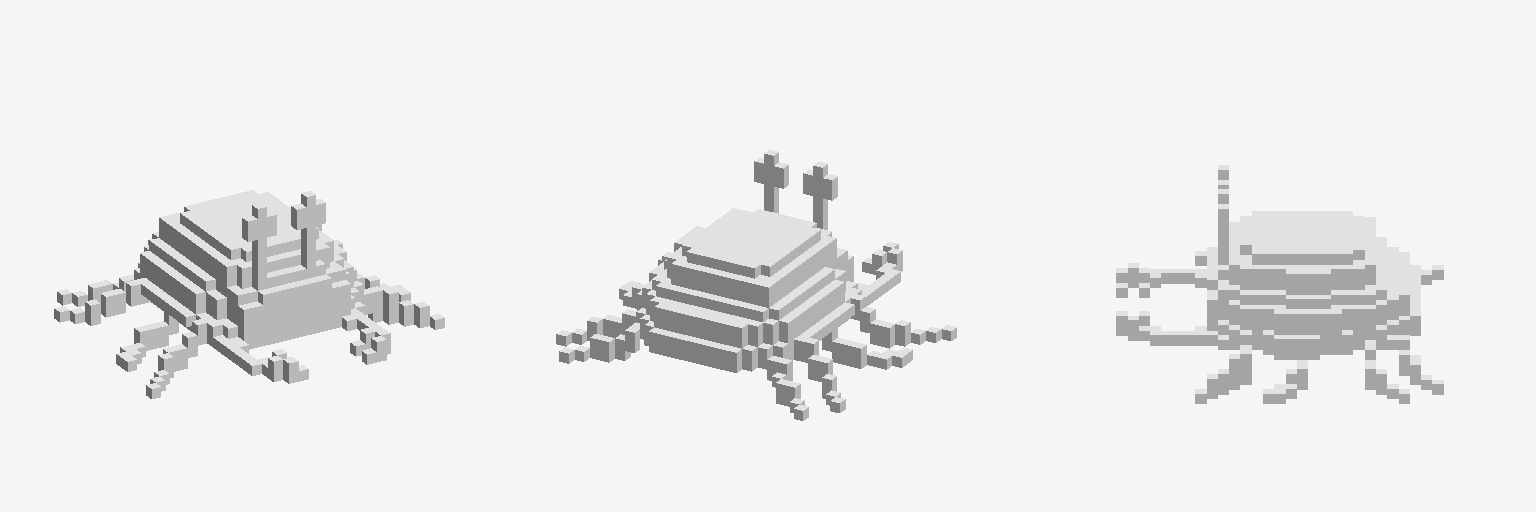
Rendered from menta.obj.
The picture shows the model from 3 angles: view 1: azimuth 30°, elevation 25°; view 2: azimuth 150°, elevation 25°; view 3: azimuth 270°, elevation 25°; orthographic projection.
Visible parts, largest first — view 1: object 1; view 2: object 1; view 3: object 1.
Part boxes in pixels (bbox=[...]): object 1: bbox=[54, 190, 444, 398]; object 1: bbox=[556, 150, 956, 420]; object 1: bbox=[1116, 165, 1443, 403].
Bounding box in the file's own units: 3 × 1.5 × 2.9.